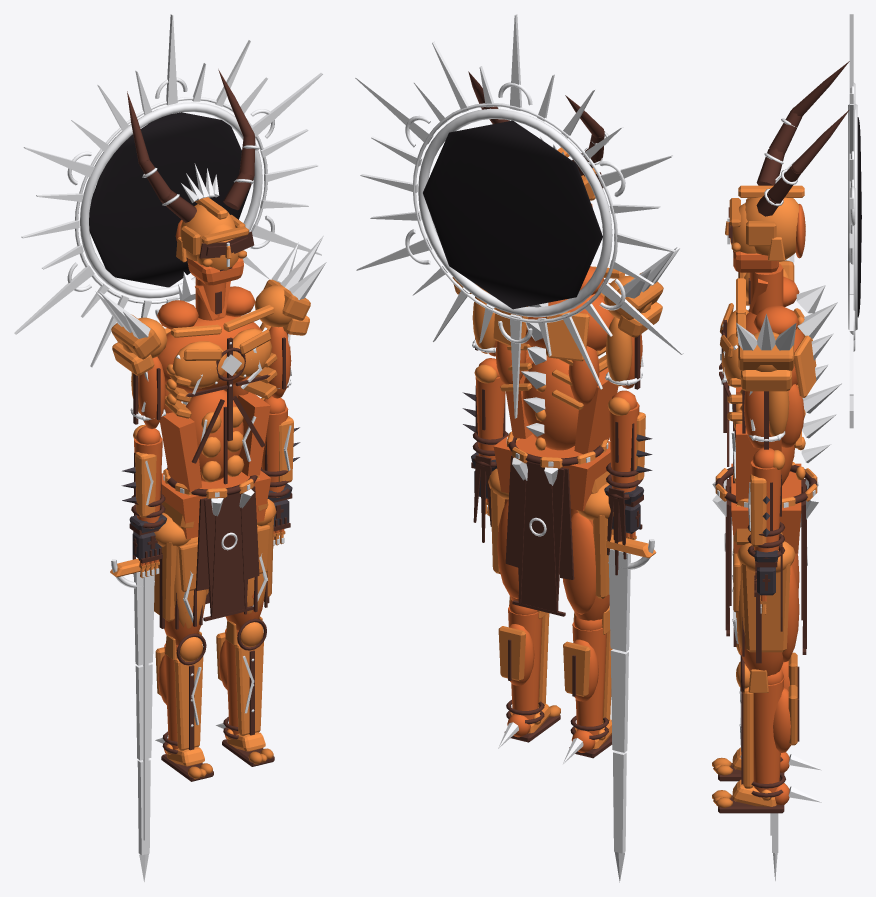
Rendered from morningstar.glb.
3 views of the same model, side by side, from view 1: azimuth 30°, elevation 25°; view 2: azimuth 150°, elevation 25°; view 3: azimuth 270°, elevation 25° (orthographic). The views are drawn at different scales.
Visible parts, largest first — view 1: obsidian*0.2, plate.102, char.017, blood.017, blood.012, blood.020, ember.003, ember.008, blood.013, blood.014, plate.139, ember.027 (+31 smaller); view 2: obsidian*0.2, plate.102, char.023, blood.013, blood.012, plate.103, blood.007, plate.136, blood.017, blood.003, blood.009, plate.137 (+25 smaller); view 3: ember*0.001, blood.003, blood.012, ember.036, blood.014, plate.102, ember*0.026, blood.021, blood.028, ember.043, ember.040, ember.003 (+49 smaller).
Boxes of the visible parts, left/top/right/bottom form: obsidian*0.2: left=89, top=112, right=251, bottom=287; plate.102: left=80, top=102, right=262, bottom=298; char.017: left=204, top=488, right=253, bottom=616; blood.017: left=160, top=412, right=201, bottom=491; blood.012: left=161, top=470, right=271, bottom=539; blood.020: left=157, top=315, right=262, bottom=393; ember.003: left=235, top=642, right=263, bottom=735; ember.008: left=174, top=656, right=203, bottom=750; blood.013: left=185, top=390, right=243, bottom=481; blood.014: left=237, top=392, right=270, bottom=476; plate.139: left=143, top=570, right=148, bottom=840; ember.027: left=172, top=341, right=226, bottom=388; obsidian*0.2: left=423, top=120, right=602, bottom=309; plate.102: left=418, top=108, right=612, bottom=317; char.023: left=512, top=457, right=564, bottom=611; blood.013: left=522, top=356, right=578, bottom=450; blood.012: left=493, top=434, right=610, bottom=511; plate.103: left=413, top=103, right=617, bottom=323; blood.007: left=563, top=512, right=595, bottom=614; plate.136: left=608, top=549, right=630, bottom=651; blood.017: left=574, top=368, right=618, bottom=454; blood.003: left=508, top=606, right=542, bottom=719; blood.009: left=572, top=622, right=606, bottom=735; plate.137: left=610, top=649, right=628, bottom=752; ember*0.001: left=742, top=563, right=790, bottom=652; blood.003: left=753, top=678, right=784, bottom=792; blood.012: left=731, top=463, right=801, bottom=553; ember.036: left=745, top=197, right=805, bottom=261; blood.014: left=736, top=424, right=781, bottom=501; plate.102: left=848, top=104, right=857, bottom=330; ember*0.026: left=738, top=336, right=794, bottom=370; blood.021: left=749, top=264, right=783, bottom=314; blood.028: left=750, top=460, right=781, bottom=552; ember.043: left=750, top=474, right=766, bottom=546; ember.040: left=741, top=370, right=791, bottom=391; ember.003: left=743, top=687, right=753, bottom=788.
Size of the model in its own units: 1.52 by 3.91 by 0.588.
